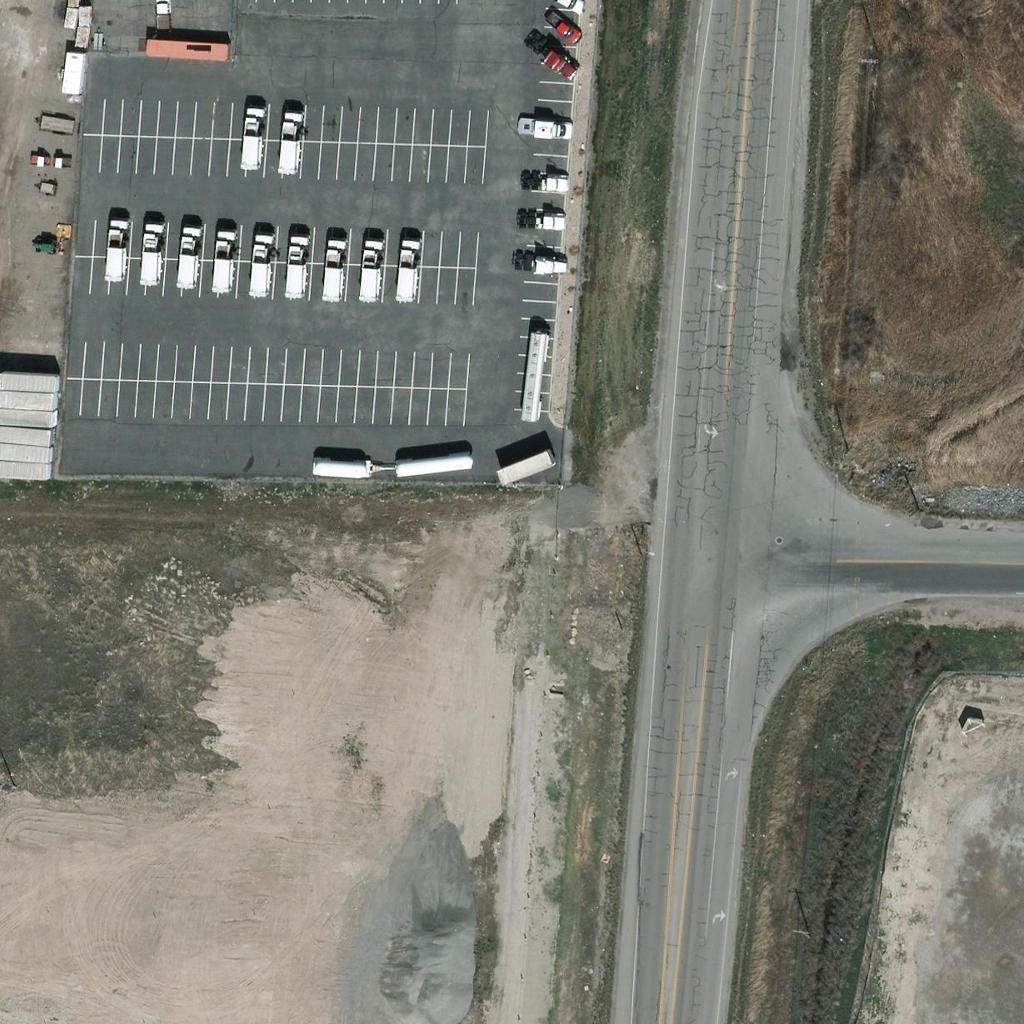car: (548, 13, 582, 47), (145, 0, 179, 24), (548, 0, 582, 18)
